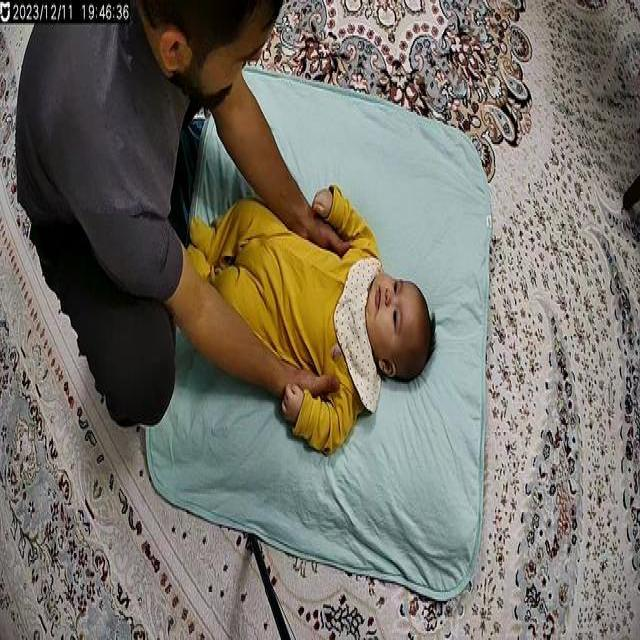baby: (180, 182, 438, 462)
